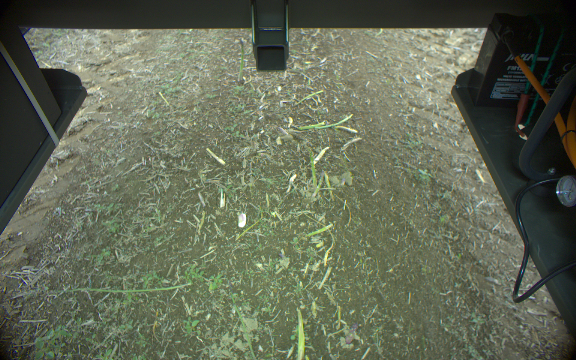aspa: (295, 307, 307, 360), (316, 113, 352, 129), (302, 222, 334, 238), (291, 89, 322, 105), (306, 148, 317, 192), (236, 38, 246, 84), (322, 170, 334, 201), (298, 121, 325, 132), (343, 323, 357, 344)
